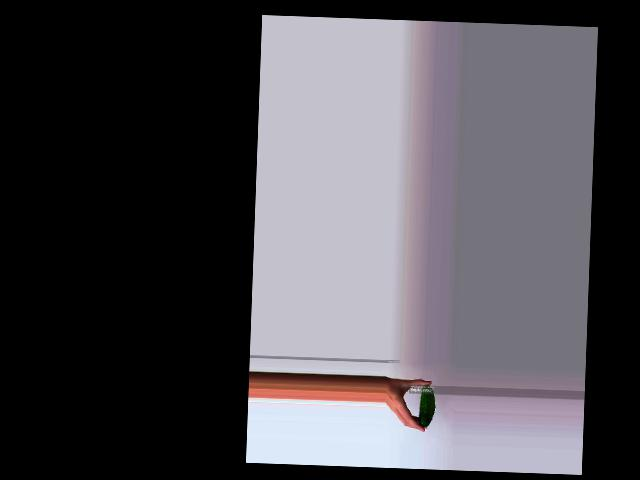cucumber: (419, 384, 436, 427)
